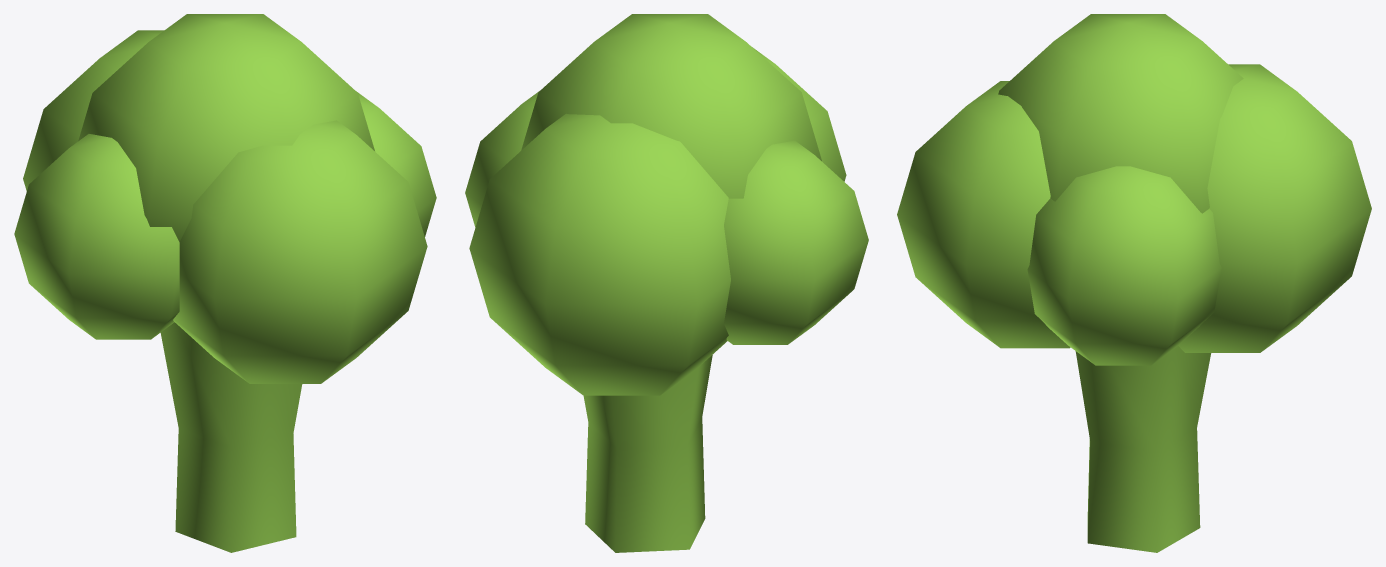
File: SM_Broccoli_001.fbx
3 views of the same model, side by side, from view 1: azimuth 30°, elevation 25°; view 2: azimuth 150°, elevation 25°; view 3: azimuth 270°, elevation 25° (orthographic). The views are drawn at different scales.
Visible parts, largest first — view 1: Sphere.007; view 2: Sphere.007; view 3: Sphere.007.
Boxes of the visible parts, <box> form: Sphere.007: <box>14,14,436,552</box>; Sphere.007: <box>465,14,868,552</box>; Sphere.007: <box>897,14,1371,552</box>.
Bounding box in the file's own units: 0.0463 × 0.063 × 0.0547.
